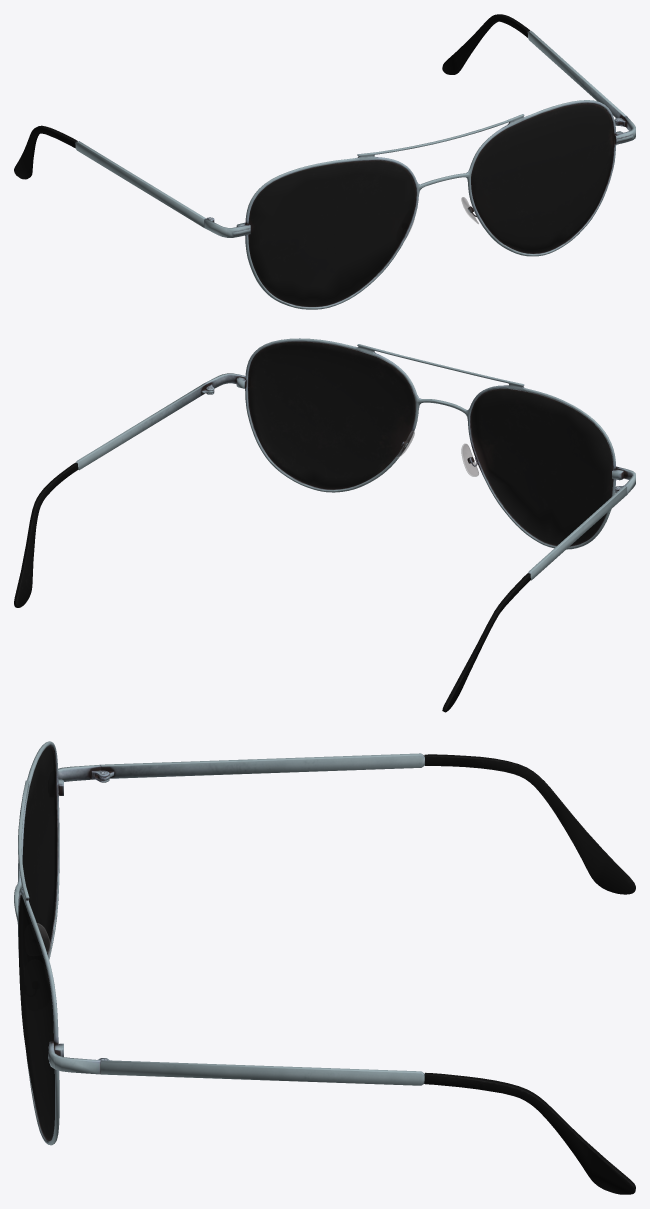
Rendered from glasses1.glb.
3 views of the same model, one above another, from view 1: azimuth 30°, elevation 25°; view 2: azimuth 150°, elevation 25°; view 3: azimuth 270°, elevation 25° (orthographic). The views are drawn at different scales.
Visible parts, largest first — view 1: Aviator Glasses; view 2: Aviator Glasses; view 3: Aviator Glasses.
Boxes of the visible parts, x1=… form: Aviator Glasses: x1=14, y1=14, x2=635, y2=309; Aviator Glasses: x1=14, y1=338, x2=635, y2=712; Aviator Glasses: x1=14, y1=741, x2=635, y2=1194.
Size of the model in its own units: 1.16 by 0.3619 by 0.9382.
1 material, 1 textured.
